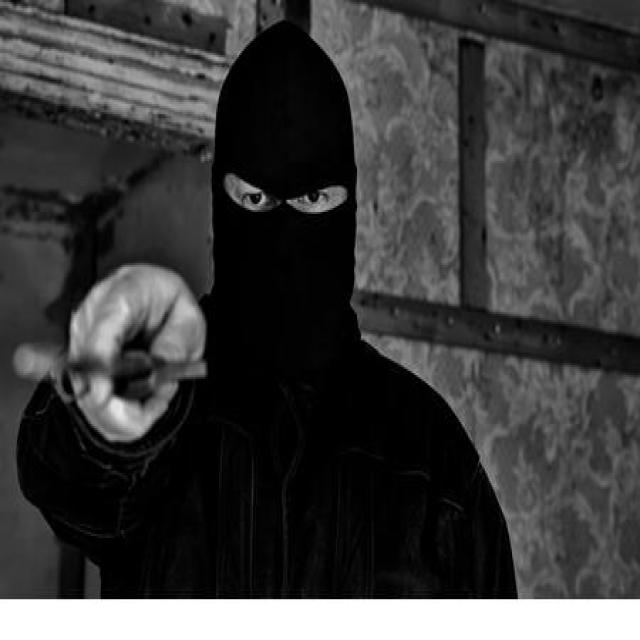6_pasamontana: (210, 18, 360, 380)
